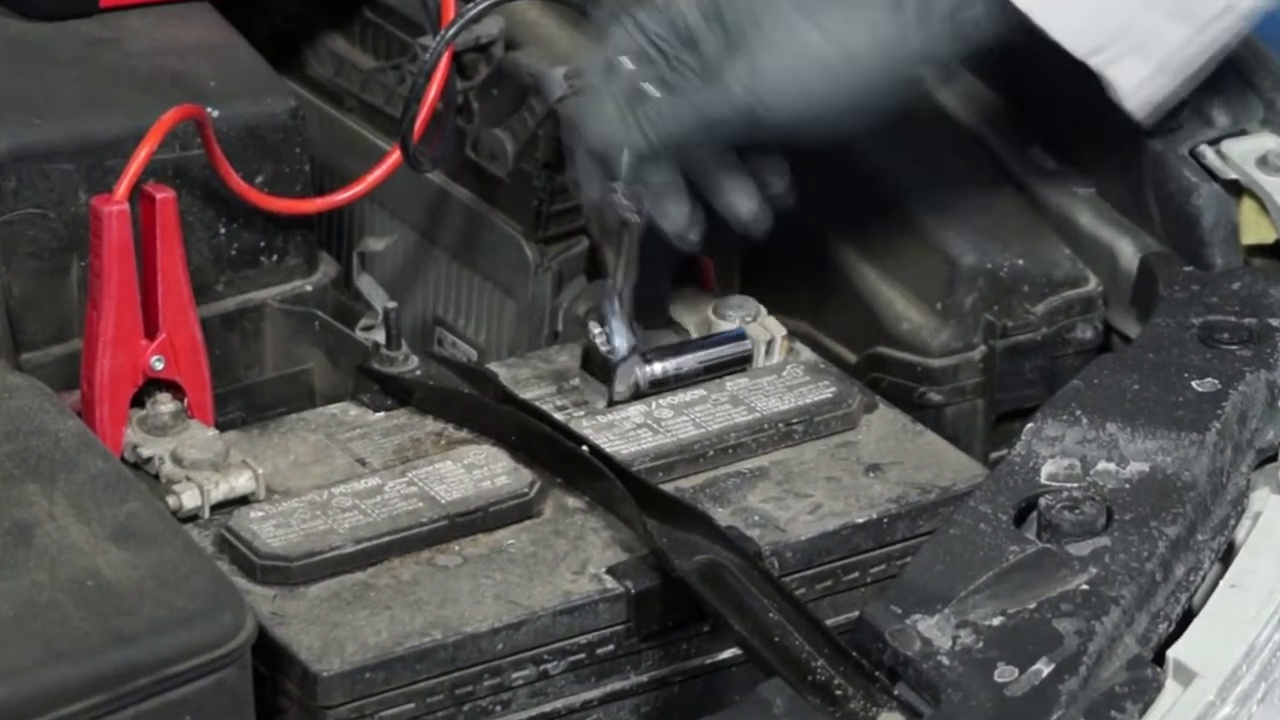battery: (91, 302, 1015, 642)
neg_disconnected: (645, 210, 807, 397)
pos_connected: (75, 260, 266, 512)
